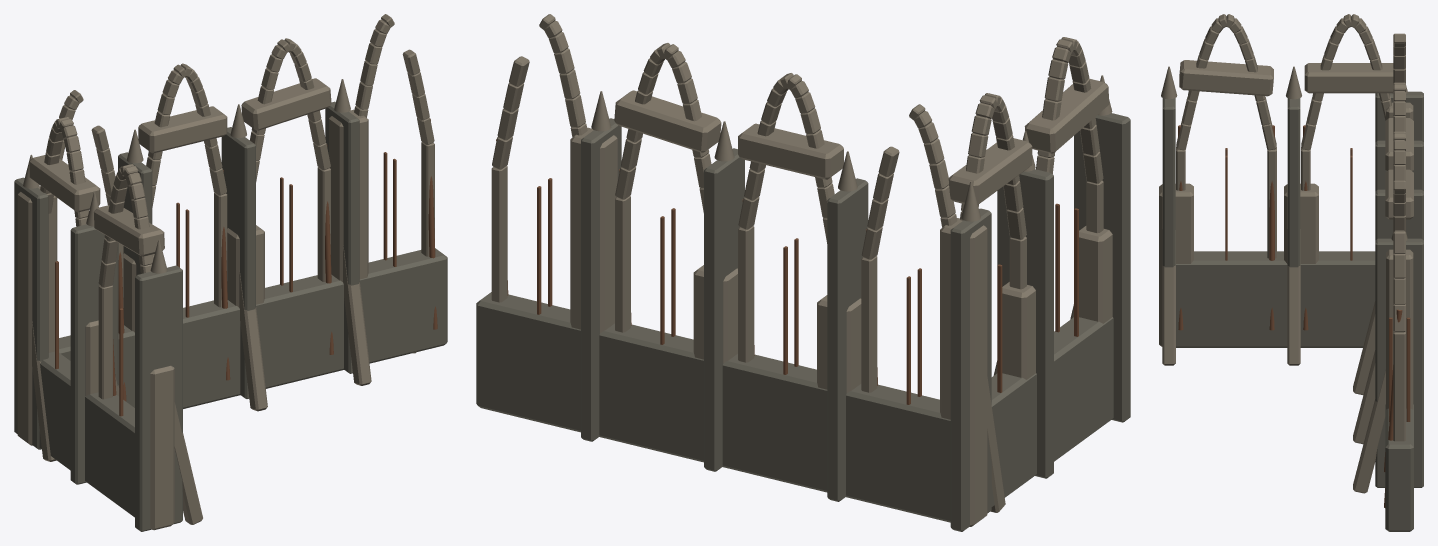
The model's file is ruined_basilica_0110.glb.
3 views of the same model, side by side, from view 1: azimuth 30°, elevation 25°; view 2: azimuth 150°, elevation 25°; view 3: azimuth 270°, elevation 25° (orthographic). The views are drawn at different scales.
Parts seen in each view (by area): view 1: _MeshInstance3D_121, _MeshInstance3D_261, _MeshInstance3D_236, _MeshInstance3D_290, _MeshInstance3D_122, _MeshInstance3D_199, _MeshInstance3D_141, _MeshInstance3D_237, _MeshInstance3D_204, _MeshInstance3D_223, _MeshInstance3D_176, _MeshInstance3D_147 (+20 smaller); view 2: _MeshInstance3D_121, _MeshInstance3D_236, _MeshInstance3D_170, _MeshInstance3D_199, _MeshInstance3D_261, _MeshInstance3D_290, _MeshInstance3D_141, _MeshInstance3D_122, _MeshInstance3D_223, _MeshInstance3D_204, _MeshInstance3D_176, _MeshInstance3D_147 (+14 smaller); view 3: _MeshInstance3D_236, _MeshInstance3D_223, _MeshInstance3D_121, _MeshInstance3D_238, _MeshInstance3D_267, _MeshInstance3D_261, _MeshInstance3D_290, _MeshInstance3D_237, _MeshInstance3D_204, _MeshInstance3D_266, _MeshInstance3D_224, _MeshInstance3D_291 (+21 smaller).
Boxes of the visible parts, left/top/right/bottom form: _MeshInstance3D_121: left=59, top=248, right=447, bottom=408; _MeshInstance3D_261: left=135, top=265, right=182, bottom=531; _MeshInstance3D_236: left=39, top=351, right=134, bottom=517; _MeshInstance3D_290: left=70, top=224, right=118, bottom=484; _MeshInstance3D_122: left=17, top=186, right=57, bottom=445; _MeshInstance3D_199: left=221, top=127, right=255, bottom=398; _MeshInstance3D_141: left=14, top=177, right=48, bottom=449; _MeshInstance3D_237: left=150, top=365, right=174, bottom=530; _MeshInstance3D_204: left=329, top=109, right=368, bottom=281; _MeshInstance3D_223: left=325, top=101, right=359, bottom=373; _MeshInstance3D_176: left=241, top=78, right=331, bottom=130; _MeshInstance3D_147: left=138, top=106, right=227, bottom=153; _MeshInstance3D_121: left=476, top=292, right=950, bottom=520; _MeshInstance3D_236: left=940, top=317, right=1113, bottom=522; _MeshInstance3D_170: left=827, top=178, right=868, bottom=501; _MeshInstance3D_199: left=704, top=148, right=744, bottom=471; _MeshInstance3D_261: left=1074, top=113, right=1130, bottom=422; _MeshInstance3D_290: left=997, top=169, right=1053, bottom=478; _MeshInstance3D_141: left=950, top=208, right=991, bottom=531; _MeshInstance3D_122: left=940, top=218, right=987, bottom=526; _MeshInstance3D_223: left=581, top=118, right=621, bottom=441; _MeshInstance3D_204: left=570, top=127, right=617, bottom=333; _MeshInstance3D_176: left=614, top=90, right=721, bottom=152; _MeshInstance3D_147: left=738, top=123, right=843, bottom=179; _MeshInstance3D_236: left=1176, top=251, right=1375, bottom=347; _MeshInstance3D_223: left=1375, top=238, right=1423, bottom=487; _MeshInstance3D_121: left=1385, top=404, right=1413, bottom=531; _MeshInstance3D_238: left=1179, top=60, right=1273, bottom=96; _MeshInstance3D_267: left=1304, top=63, right=1393, bottom=93; _MeshInstance3D_261: left=1162, top=98, right=1175, bottom=267; _MeshInstance3D_290: left=1287, top=98, right=1300, bottom=267; _MeshInstance3D_237: left=1159, top=183, right=1193, bottom=346; _MeshInstance3D_204: left=1386, top=249, right=1413, bottom=409; _MeshInstance3D_266: left=1284, top=183, right=1318, bottom=263; _MeshInstance3D_224: left=1353, top=369, right=1385, bottom=493; _MeshInstance3D_291: left=1287, top=229, right=1300, bottom=365.
Bounding box in the file's own units: 13.28 × 10.28 × 7.42.
